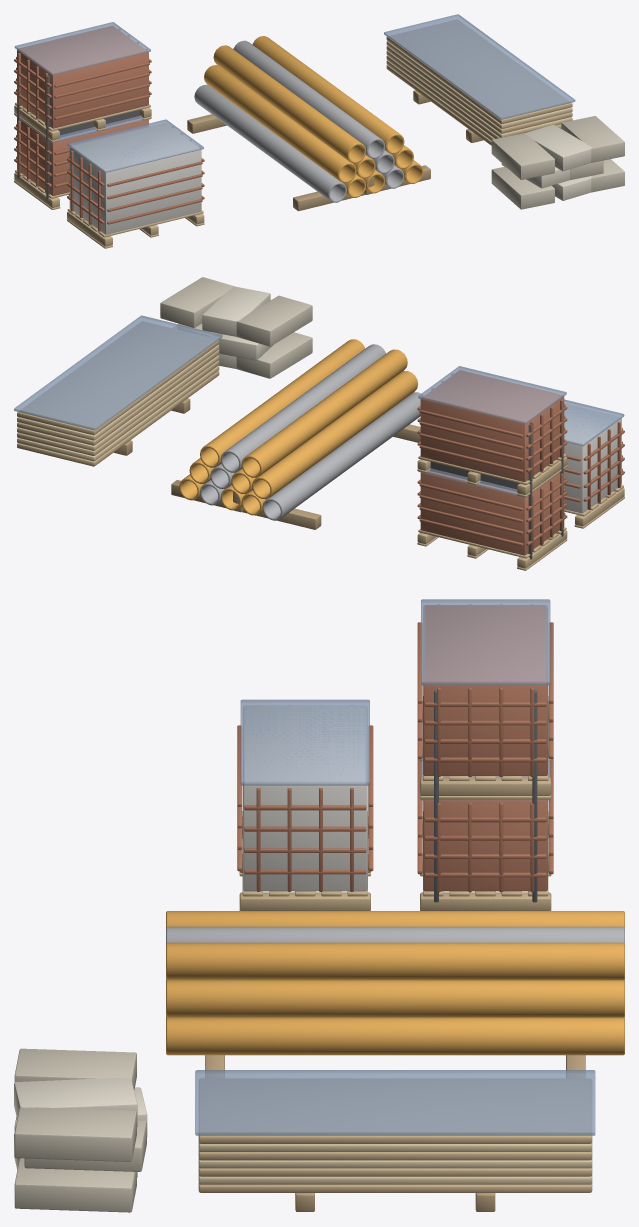
File: th21_materialstapel.glb
The picture shows the model from 3 angles, top to bottom: view 1: azimuth 30°, elevation 25°; view 2: azimuth 150°, elevation 25°; view 3: azimuth 270°, elevation 25°; orthographic projection. The views are drawn at different scales.
Visible parts, largest first — view 1: Cube.087, Cube.134, Cube.133, Cube.048, Rohr.009, Cube.073, Cube.112, Rohr, Rohr.005, Rohr.010, Rohr.011, Cube.011 (+35 smaller); view 2: Cube.134, Cube.048, Cube.133, Cube.011, Rohr.009, Cube.073, Rohr.005, Rohr, Cube.087, Rohr.011, Rohr.010, Cube.122 (+29 smaller); view 3: Cube.134, Cube.133, Cube.087, Rohr.004, Rohr.011, Cube.048, Rohr.008, Cube.112, Cube.073, Cube.011, Rohr.010, Rohr.009 (+14 smaller).
Part boxes in pixels (bbox=[...]): Cube.087: bbox=[69, 123, 201, 234]; Cube.134: bbox=[384, 14, 575, 119]; Cube.133: bbox=[386, 20, 572, 124]; Cube.048: bbox=[17, 26, 148, 128]; Rohr.009: bbox=[213, 45, 366, 163]; Cube.073: bbox=[14, 22, 150, 75]; Cube.112: bbox=[67, 119, 203, 172]; Rohr: bbox=[194, 84, 346, 202]; Rohr.005: bbox=[204, 65, 356, 182]; Rohr.010: bbox=[233, 40, 385, 158]; Rohr.011: bbox=[252, 36, 404, 153]; Cube.011: bbox=[17, 117, 148, 195]; Cube.134: bbox=[14, 315, 222, 430]; Cube.048: bbox=[420, 370, 564, 481]; Cube.133: bbox=[17, 321, 219, 435]; Cube.011: bbox=[420, 470, 564, 555]; Rohr.009: bbox=[241, 349, 407, 477]; Cube.073: bbox=[418, 366, 566, 424]; Rohr.005: bbox=[252, 371, 417, 499]; Rohr: bbox=[262, 392, 421, 520]; Cube.087: bbox=[564, 403, 621, 513]; Rohr.011: bbox=[200, 339, 365, 467]; Rohr.010: bbox=[220, 344, 385, 472]; Cube.122: bbox=[236, 295, 312, 346]; Cube.134: bbox=[195, 1070, 595, 1135]; Cube.133: bbox=[198, 1079, 592, 1143]; Cube.087: bbox=[243, 705, 367, 891]; Rohr.004: bbox=[166, 1017, 624, 1055]; Rohr.011: bbox=[166, 942, 624, 980]; Cube.048: bbox=[423, 605, 547, 775]; Rohr.008: bbox=[166, 980, 624, 1017]; Cube.112: bbox=[240, 699, 369, 785]; Cube.073: bbox=[421, 599, 550, 685]; Cube.011: bbox=[423, 776, 547, 891]; Rohr.010: bbox=[166, 926, 624, 943]; Rohr.009: bbox=[166, 911, 624, 927].
Bounding box in the file's own units: 5.53 × 1.57 × 3.73.
